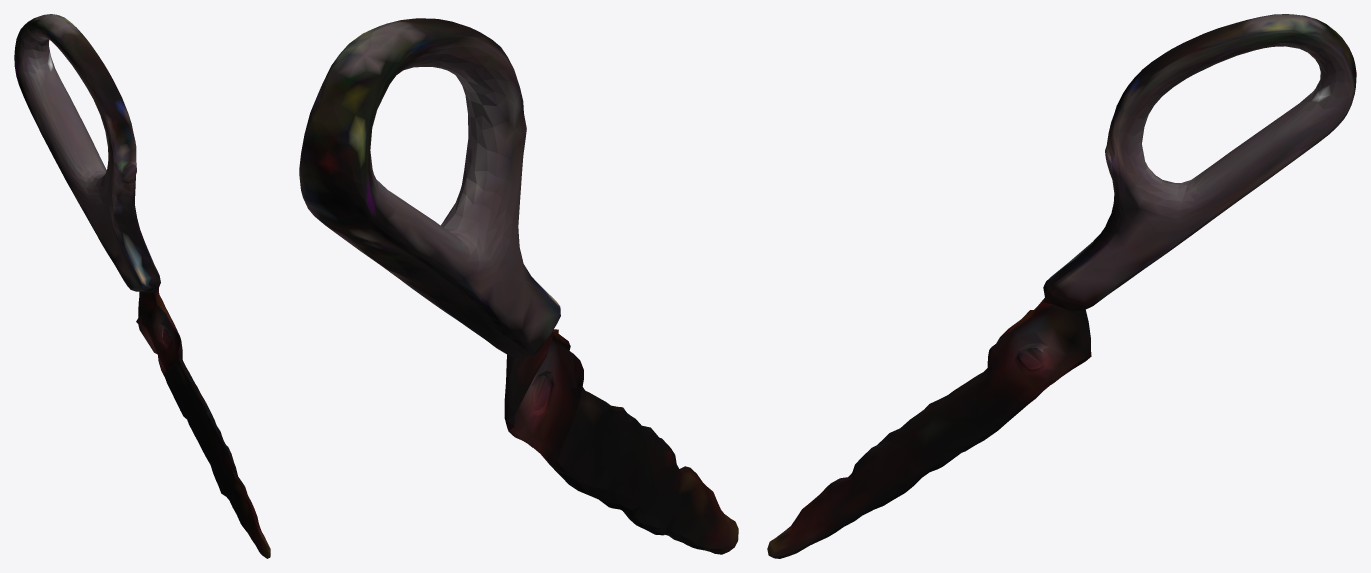
File: scan.obj
3 views of the same model, side by side, from view 1: azimuth 30°, elevation 25°; view 2: azimuth 150°, elevation 25°; view 3: azimuth 270°, elevation 25° (orthographic). The views are drawn at different scales.
Parts seen in each view (by area): view 1: scan.ply; view 2: scan.ply; view 3: scan.ply.
Boxes of the visible parts, left/top/right/bottom form: scan.ply: left=14, top=14, right=270, bottom=558; scan.ply: left=299, top=18, right=738, bottom=554; scan.ply: left=767, top=14, right=1356, bottom=558.
Bounding box in the file's own units: 0.013 × 0.1284 × 0.1293.
